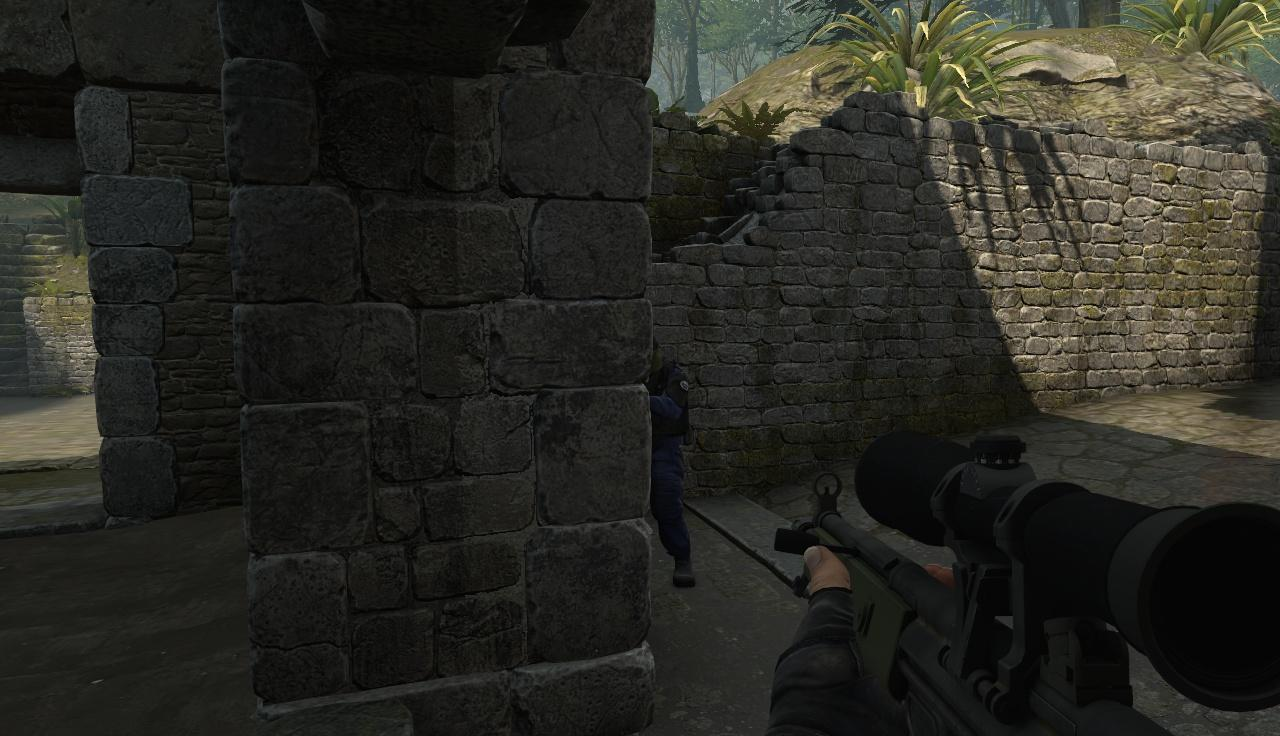ct: (651, 333, 691, 581)
sniper: (807, 425, 1280, 732)
